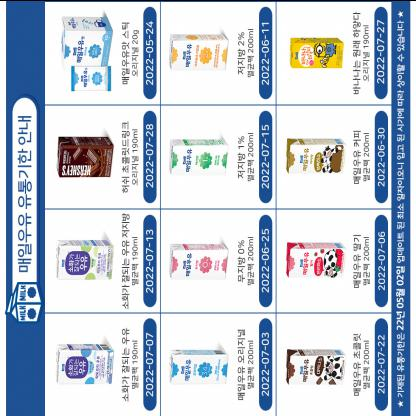tetra: (53, 222, 117, 296), (48, 332, 118, 398), (164, 336, 234, 397), (284, 21, 348, 87), (163, 23, 232, 82), (282, 231, 350, 290), (281, 336, 350, 394), (50, 127, 116, 184), (282, 128, 350, 182), (166, 128, 231, 184), (166, 236, 232, 288)
